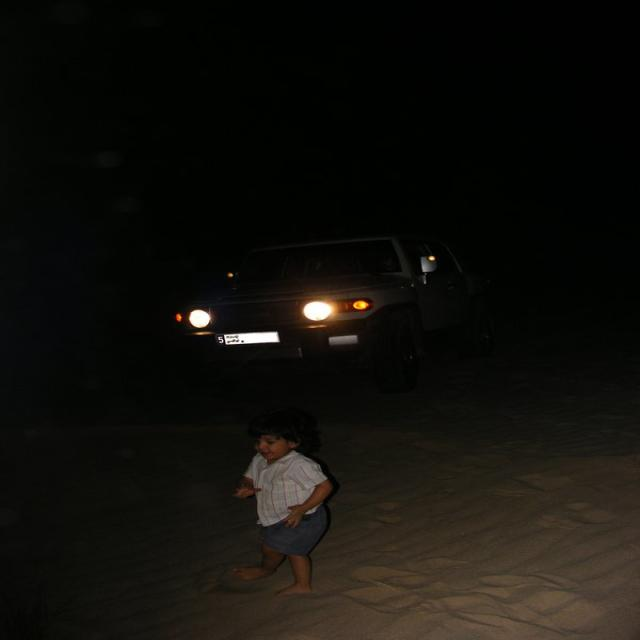People: (180, 410, 345, 605)
car: (140, 218, 509, 395)
